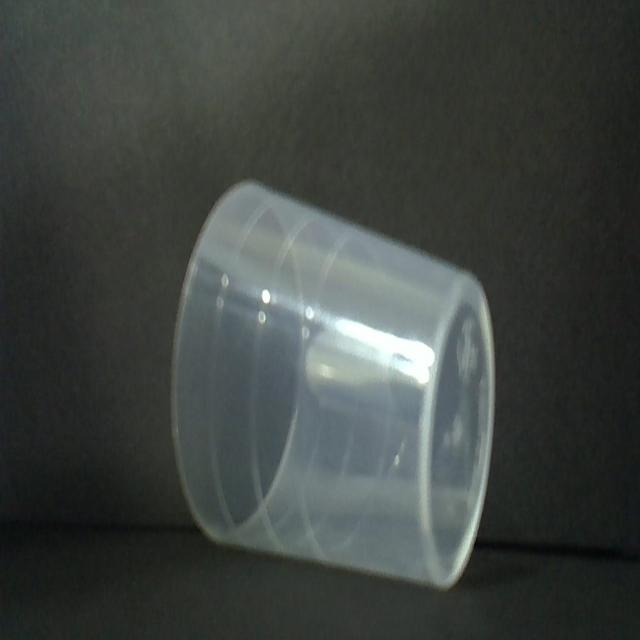cup: (168, 170, 500, 593)
